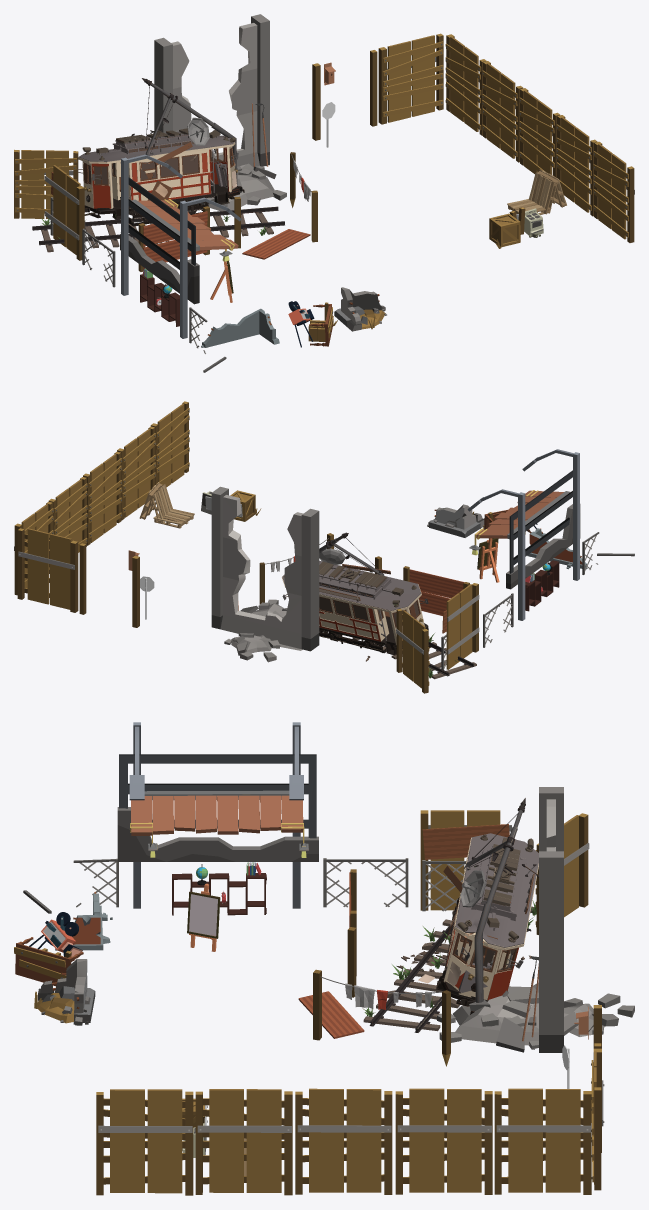
The model's file is passive1.gltf.
3 renders of one model, top to bottom at view 1: azimuth 30°, elevation 25°; view 2: azimuth 150°, elevation 25°; view 3: azimuth 270°, elevation 25°, orthographic. The views are drawn at different scales.
Parts seen in each view (by area): view 1: Tram, MurCasse, PanneauAffichage, Woodwall1.002, Woodwall1.006, barrièrebois1.001, Woodwall1.003, Woodwall1.007, Woodwall1.005, Woodwall1.004, Wall1, Poteaux (+11 smaller); view 2: MurCasse, Tram, PanneauAffichage, Woodwall1.002, Woodwall1.004, Wall1, Woodwall1.005, Woodwall1.006, barrièrebois1.001, Woodwall1.003, Tole2, awning_lamps (+10 smaller); view 3: Tram, MurCasse, PanneauAffichage, Woodwall1.003, Woodwall1.006, Woodwall1.007, Woodwall1.005, Woodwall1.004, awning_lamps, Wall1, Poteaux, Angle1 (+11 smaller).
Boxes of the visible parts, x1=… form: Tram: x1=32, y1=78, x2=284, y2=252; MurCasse: x1=154, y1=14, x2=286, y2=211; PanneauAffichage: x1=120, y1=154, x2=241, y2=338; Woodwall1.002: x1=378, y1=33, x2=443, y2=124; Woodwall1.006: x1=593, y1=141, x2=634, y2=242; barrièrebois1.001: x1=14, y1=149, x2=78, y2=218; Woodwall1.003: x1=482, y1=61, x2=522, y2=162; Woodwall1.007: x1=445, y1=34, x2=486, y2=135; Woodwall1.005: x1=556, y1=115, x2=597, y2=216; Woodwall1.004: x1=519, y1=88, x2=559, y2=177; Wall1: x1=44, y1=165, x2=85, y2=260; Poteaux: x1=234, y1=152, x2=317, y2=259; MurCasse: x1=211, y1=486, x2=319, y2=662; Tram: x1=282, y1=532, x2=476, y2=679; PanneauAffichage: x1=467, y1=449, x2=580, y2=620; Woodwall1.002: x1=17, y1=528, x2=78, y2=612; Woodwall1.004: x1=83, y1=451, x2=121, y2=545; Wall1: x1=441, y1=583, x2=479, y2=669; Woodwall1.005: x1=117, y1=426, x2=155, y2=520; Woodwall1.006: x1=150, y1=401, x2=189, y2=487; barrièrebois1.001: x1=396, y1=608, x2=429, y2=693; Woodwall1.003: x1=48, y1=477, x2=87, y2=552; Tole2: x1=403, y1=566, x2=469, y2=615; awning_lamps: x1=469, y1=490, x2=570, y2=555; Tram: x1=362, y1=798, x2=538, y2=1032; MurCasse: x1=437, y1=787, x2=634, y2=1052; PanneauAffichage: x1=117, y1=722, x2=318, y2=908; Woodwall1.003: x1=395, y1=1088, x2=492, y2=1194; Woodwall1.006: x1=96, y1=1089, x2=193, y2=1195; Woodwall1.007: x1=494, y1=1088, x2=591, y2=1194; Woodwall1.005: x1=195, y1=1089, x2=292, y2=1195; Woodwall1.004: x1=295, y1=1088, x2=392, y2=1194; awning_lamps: x1=130, y1=790, x2=308, y2=857; Wall1: x1=420, y1=810, x2=511, y2=911; Poteaux: x1=298, y1=927, x2=450, y2=1066; Angle1: x1=34, y1=959, x2=95, y2=1025.
Bounding box in the file's own units: 64.67 × 21.58 × 55.88.
23 materials, 22 textured.
